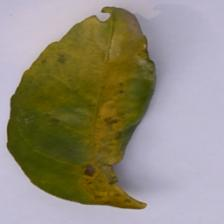greening: (6, 8, 165, 212)
